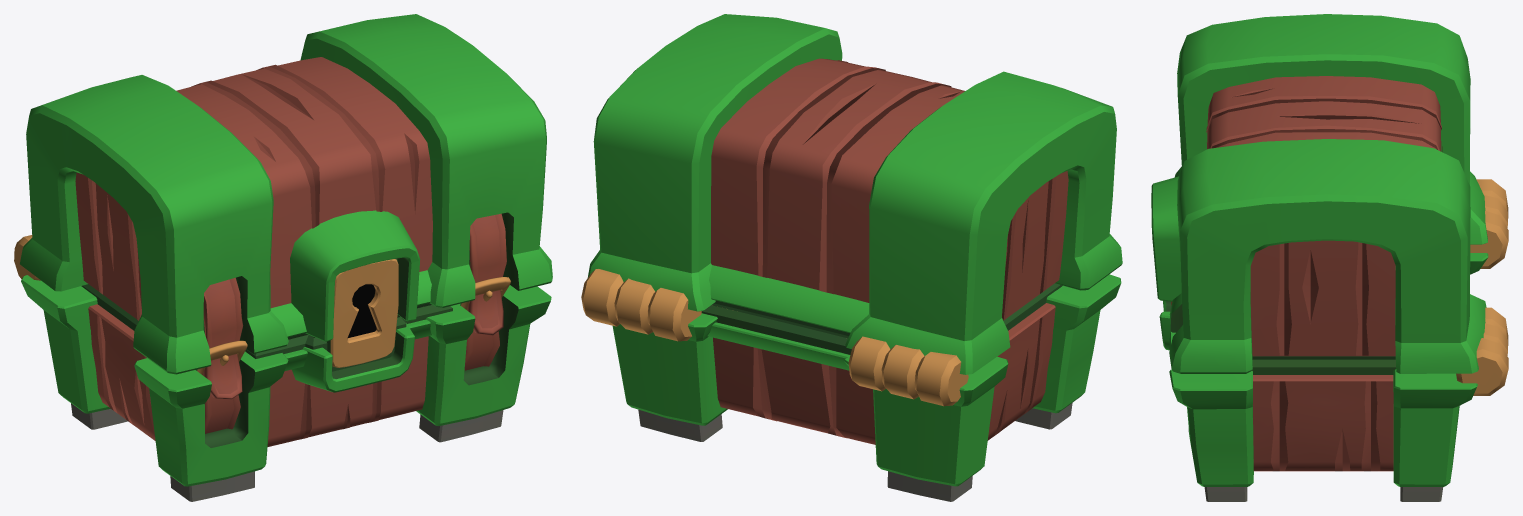
Rendered from chest1.glb.
The picture shows the model from 3 angles, left to right: view 1: azimuth 30°, elevation 25°; view 2: azimuth 150°, elevation 25°; view 3: azimuth 270°, elevation 25°; orthographic projection. The views are drawn at different scales.
Parts seen in each view (by area): view 1: CHEST1; view 2: CHEST1; view 3: CHEST1.
Boxes of the visible parts, box(x1,y1,x2,y2) form: CHEST1: box(14, 14, 552, 501); CHEST1: box(581, 14, 1122, 501); CHEST1: box(1151, 14, 1508, 501).
Bounding box in the file's own units: 1.95 × 1.62 × 1.58.
2 materials, 1 textured.
